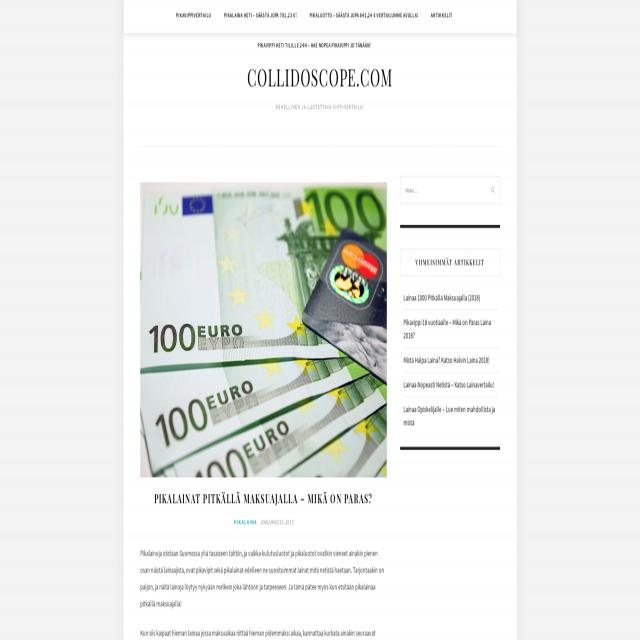button: (140, 182, 386, 478), (257, 30, 371, 60), (310, 0, 418, 30), (400, 249, 501, 278), (224, 0, 296, 30), (176, 0, 212, 30), (431, 0, 453, 30)
field: (400, 176, 500, 204)
